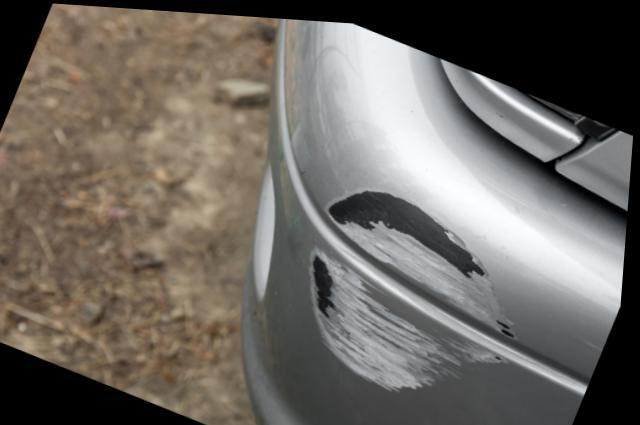scratch: (314, 180, 523, 385)
